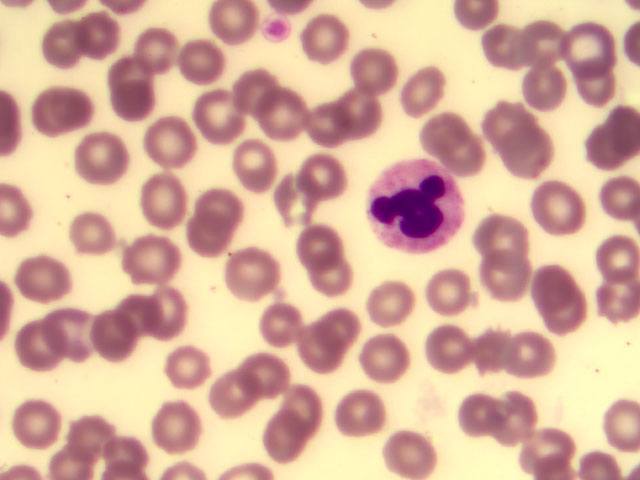Platelets: (261, 10, 291, 45)
RBC: (40, 19, 91, 74), (82, 8, 133, 63), (108, 79, 159, 134), (100, 53, 151, 108), (140, 20, 191, 75), (185, 41, 236, 96), (194, 92, 245, 147), (145, 113, 196, 168), (86, 126, 137, 181), (30, 85, 81, 140), (61, 202, 112, 257), (19, 245, 70, 300), (8, 319, 59, 374), (48, 307, 99, 362), (92, 314, 143, 369), (108, 285, 159, 340), (152, 290, 203, 345), (124, 232, 175, 287), (145, 173, 196, 228), (185, 214, 236, 269), (202, 185, 253, 240), (233, 141, 284, 196), (259, 89, 310, 144), (243, 67, 294, 122), (302, 101, 353, 156), (331, 88, 382, 143), (348, 45, 399, 100), (306, 14, 357, 69), (392, 62, 443, 117), (418, 108, 469, 163), (442, 124, 493, 179), (489, 103, 540, 158), (496, 127, 547, 182), (519, 66, 570, 121), (522, 15, 573, 70), (490, 17, 541, 72), (568, 10, 619, 65), (571, 51, 622, 106), (579, 121, 630, 176), (589, 172, 640, 227), (532, 183, 583, 238), (478, 208, 529, 263), (481, 260, 532, 315), (519, 250, 570, 305), (539, 289, 590, 344), (588, 236, 639, 291), (589, 277, 640, 332), (421, 267, 472, 322), (365, 278, 416, 333), (315, 261, 366, 316), (289, 227, 340, 282), (296, 154, 347, 209), (277, 179, 328, 234), (233, 249, 284, 304), (255, 300, 306, 355), (288, 332, 339, 387), (322, 304, 373, 359), (358, 334, 409, 389), (424, 322, 475, 377), (465, 324, 516, 379), (503, 333, 554, 388), (458, 384, 509, 439), (493, 391, 544, 446), (519, 417, 570, 472), (589, 395, 640, 450), (385, 425, 436, 480), (331, 390, 382, 445), (262, 412, 313, 467), (273, 380, 324, 435), (247, 349, 298, 404), (210, 368, 261, 423), (168, 341, 219, 396), (157, 397, 208, 452), (64, 408, 115, 463), (11, 393, 62, 448), (207, 1, 258, 55), (452, 1, 505, 36)
WBC: (371, 154, 469, 257)
